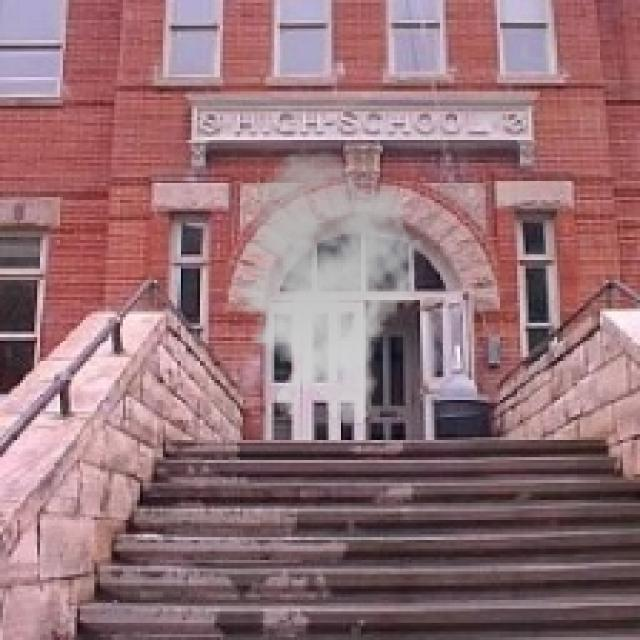smoke: (220, 148, 429, 428)
